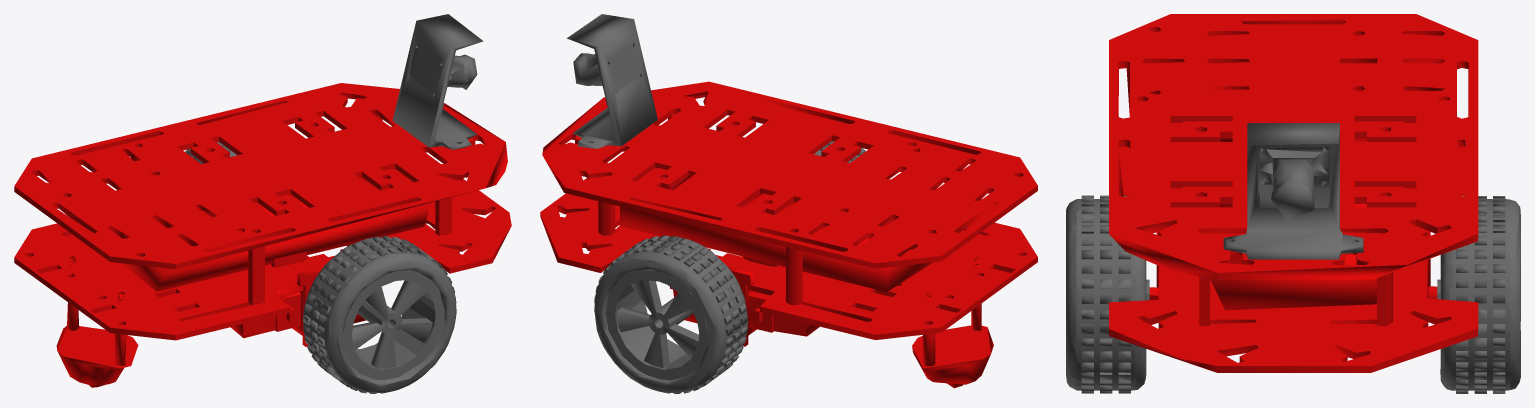
The model's file is duckiebot.glb.
3 renders of one model, left to right at view 1: azimuth 30°, elevation 25°; view 2: azimuth 150°, elevation 25°; view 3: azimuth 270°, elevation 25°, orthographic. The views are drawn at different scales.
Visible parts, largest first — view 1: chassis_package://duckiebot_description/meshes/duckiebotFram, right_wheel_package://duckiebot_description/meshes/duckiebot, camera_package://duckiebot_description/meshes/duckiebot_came; view 2: chassis_package://duckiebot_description/meshes/duckiebotFram, left_wheel_package://duckiebot_description/meshes/duckiebot_, camera_package://duckiebot_description/meshes/duckiebot_came; view 3: chassis_package://duckiebot_description/meshes/duckiebotFram, camera_package://duckiebot_description/meshes/duckiebot_came, left_wheel_package://duckiebot_description/meshes/duckiebot_, right_wheel_package://duckiebot_description/meshes/duckiebot.
Boxes of the visible parts, left/top/right/bottom form: chassis_package://duckiebot_description/meshes/duckiebotFram: left=14, top=83, right=511, bottom=387; right_wheel_package://duckiebot_description/meshes/duckiebot: left=303, top=236, right=456, bottom=393; camera_package://duckiebot_description/meshes/duckiebot_came: left=392, top=14, right=483, bottom=149; chassis_package://duckiebot_description/meshes/duckiebotFram: left=540, top=81, right=1037, bottom=388; left_wheel_package://duckiebot_description/meshes/duckiebot_: left=594, top=235, right=748, bottom=393; camera_package://duckiebot_description/meshes/duckiebot_came: left=567, top=14, right=657, bottom=148; chassis_package://duckiebot_description/meshes/duckiebotFram: left=1109, top=14, right=1478, bottom=372; camera_package://duckiebot_description/meshes/duckiebot_came: left=1223, top=123, right=1363, bottom=259; left_wheel_package://duckiebot_description/meshes/duckiebot_: left=1437, top=196, right=1520, bottom=393; right_wheel_package://duckiebot_description/meshes/duckiebot: left=1066, top=195, right=1149, bottom=393.
Bounding box in the file's own units: 0.1998 × 0.123 × 0.1472.
